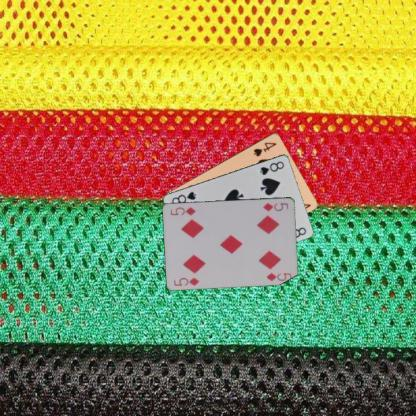4s: (251, 139, 278, 158)
5d: (260, 200, 290, 212), (172, 275, 200, 287)
8s: (257, 158, 286, 176)
